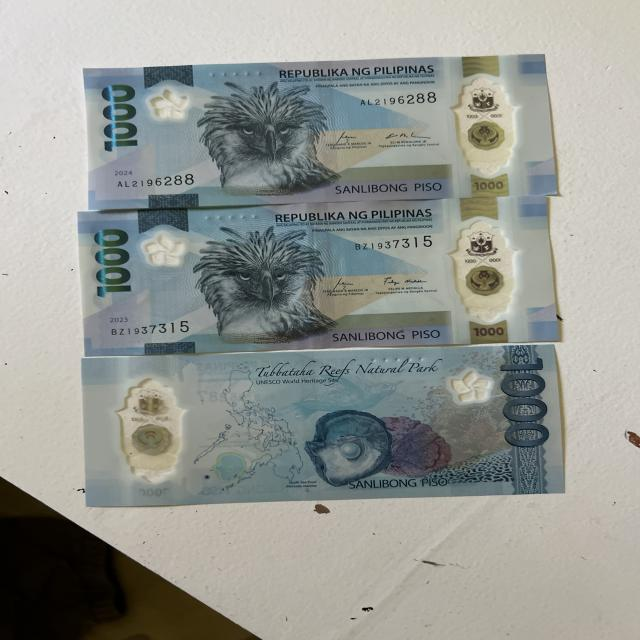clear_window: (104, 376, 198, 497), (446, 68, 529, 182), (444, 216, 524, 326)
eagle: (194, 79, 338, 194), (200, 231, 337, 345)
sampaguita: (145, 228, 194, 273), (444, 368, 498, 404), (146, 89, 190, 127)
serial_number: (94, 318, 209, 340), (350, 230, 440, 257), (359, 86, 443, 109), (118, 176, 198, 189)
value: (497, 357, 560, 452), (94, 77, 140, 154)
